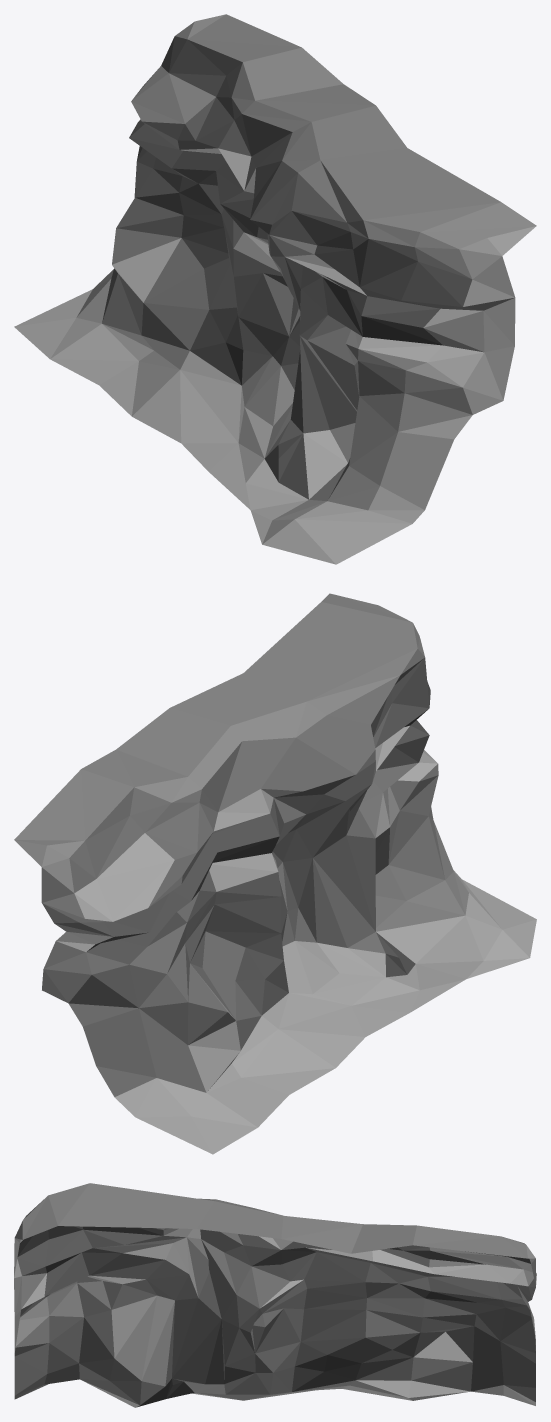
Rendered from rock_2.fbx.
The picture shows the model from 3 angles, top to bottom: view 1: azimuth 30°, elevation 25°; view 2: azimuth 150°, elevation 25°; view 3: azimuth 270°, elevation 25°; orthographic projection. The views are drawn at different scales.
Visible parts, largest first — view 1: Object.014; view 2: Object.014; view 3: Object.014.
Boxes of the visible parts, box(x1,y1,x2,y2) form: Object.014: box(14, 14, 536, 564); Object.014: box(14, 593, 536, 1154); Object.014: box(14, 1183, 536, 1407).
Bounding box in the file's own units: 797 × 905 × 1795.
